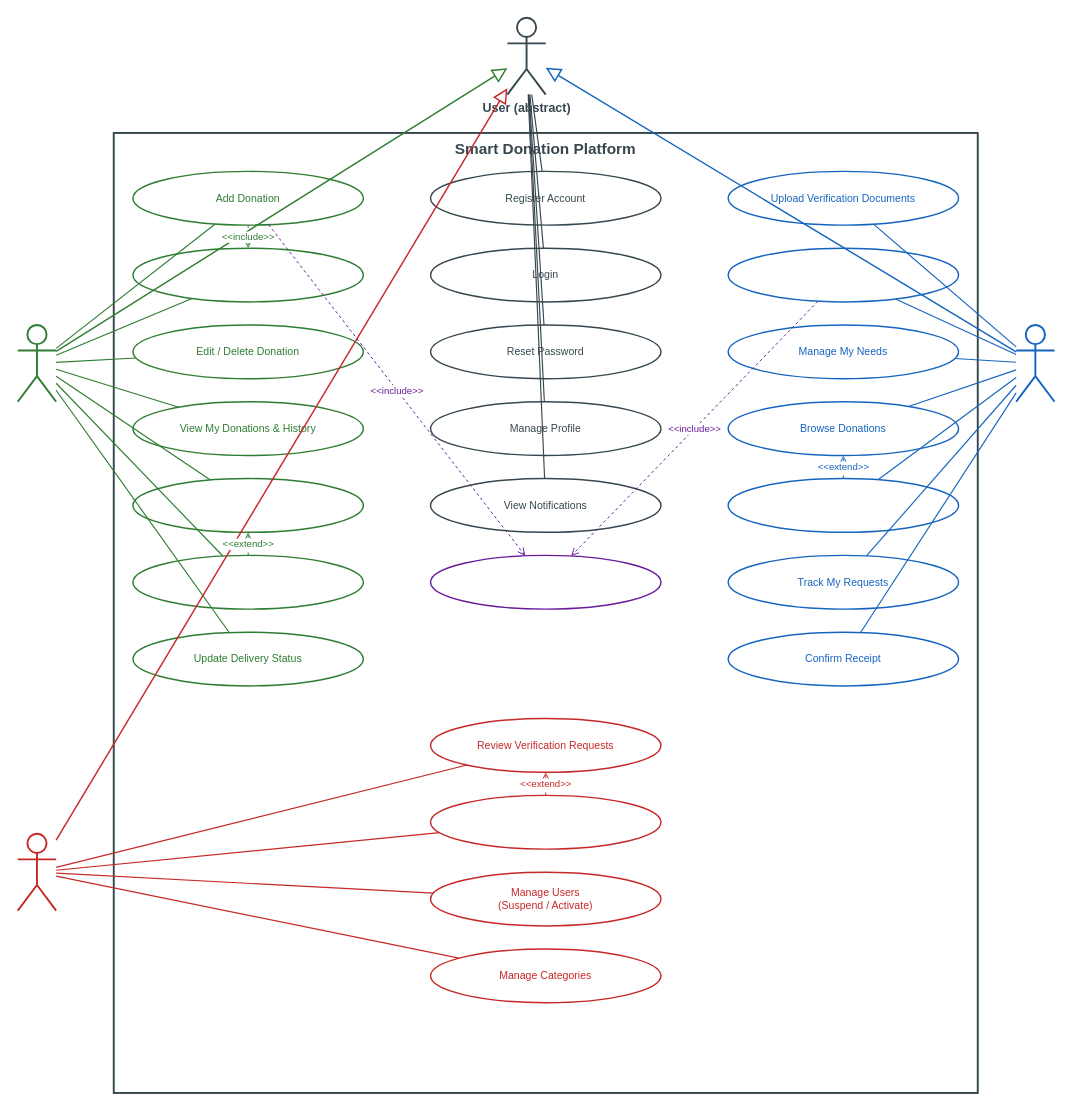
This 1090x1110 diagram has some shape labels left out. The centre of each missing label's shape, as x and y in pixels:
Accept / Reject Request: the point at 248,581
Admin: the point at 36,871
Approve / Reject Organization: the point at 545,821
Donor: the point at 36,363
Organization: the point at 1035,363
Publish Need: the point at 843,274
Request Donation: the point at 843,505
Send Smart Match Notification: the point at 545,581
Upload Donation Images: the point at 248,274
View Incoming Requests: the point at 248,505
